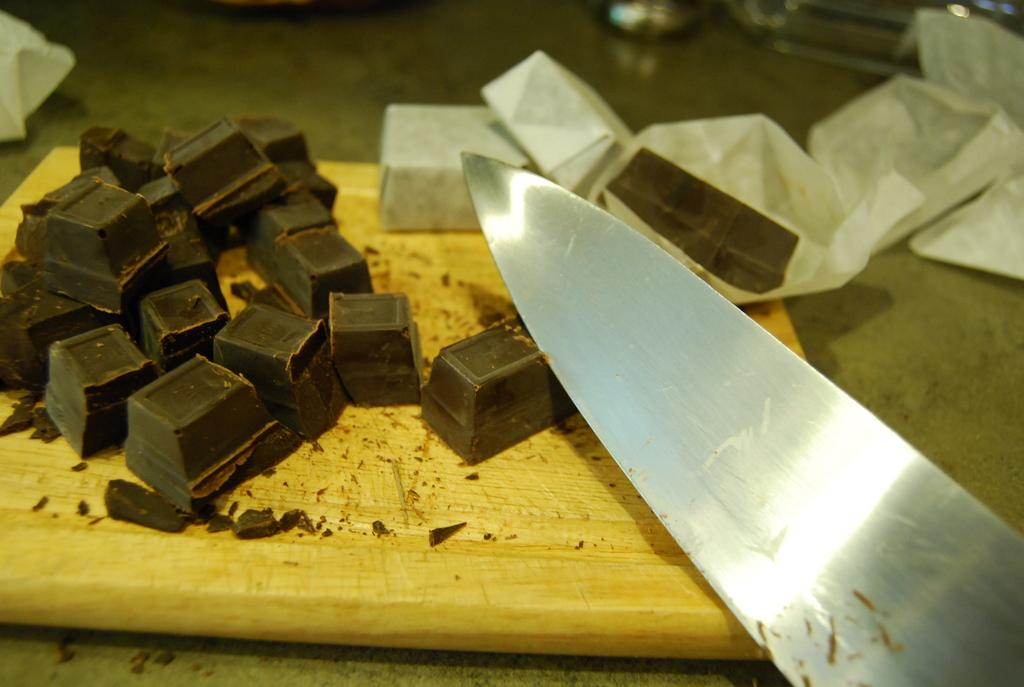Knife: (461, 144, 1023, 686)
